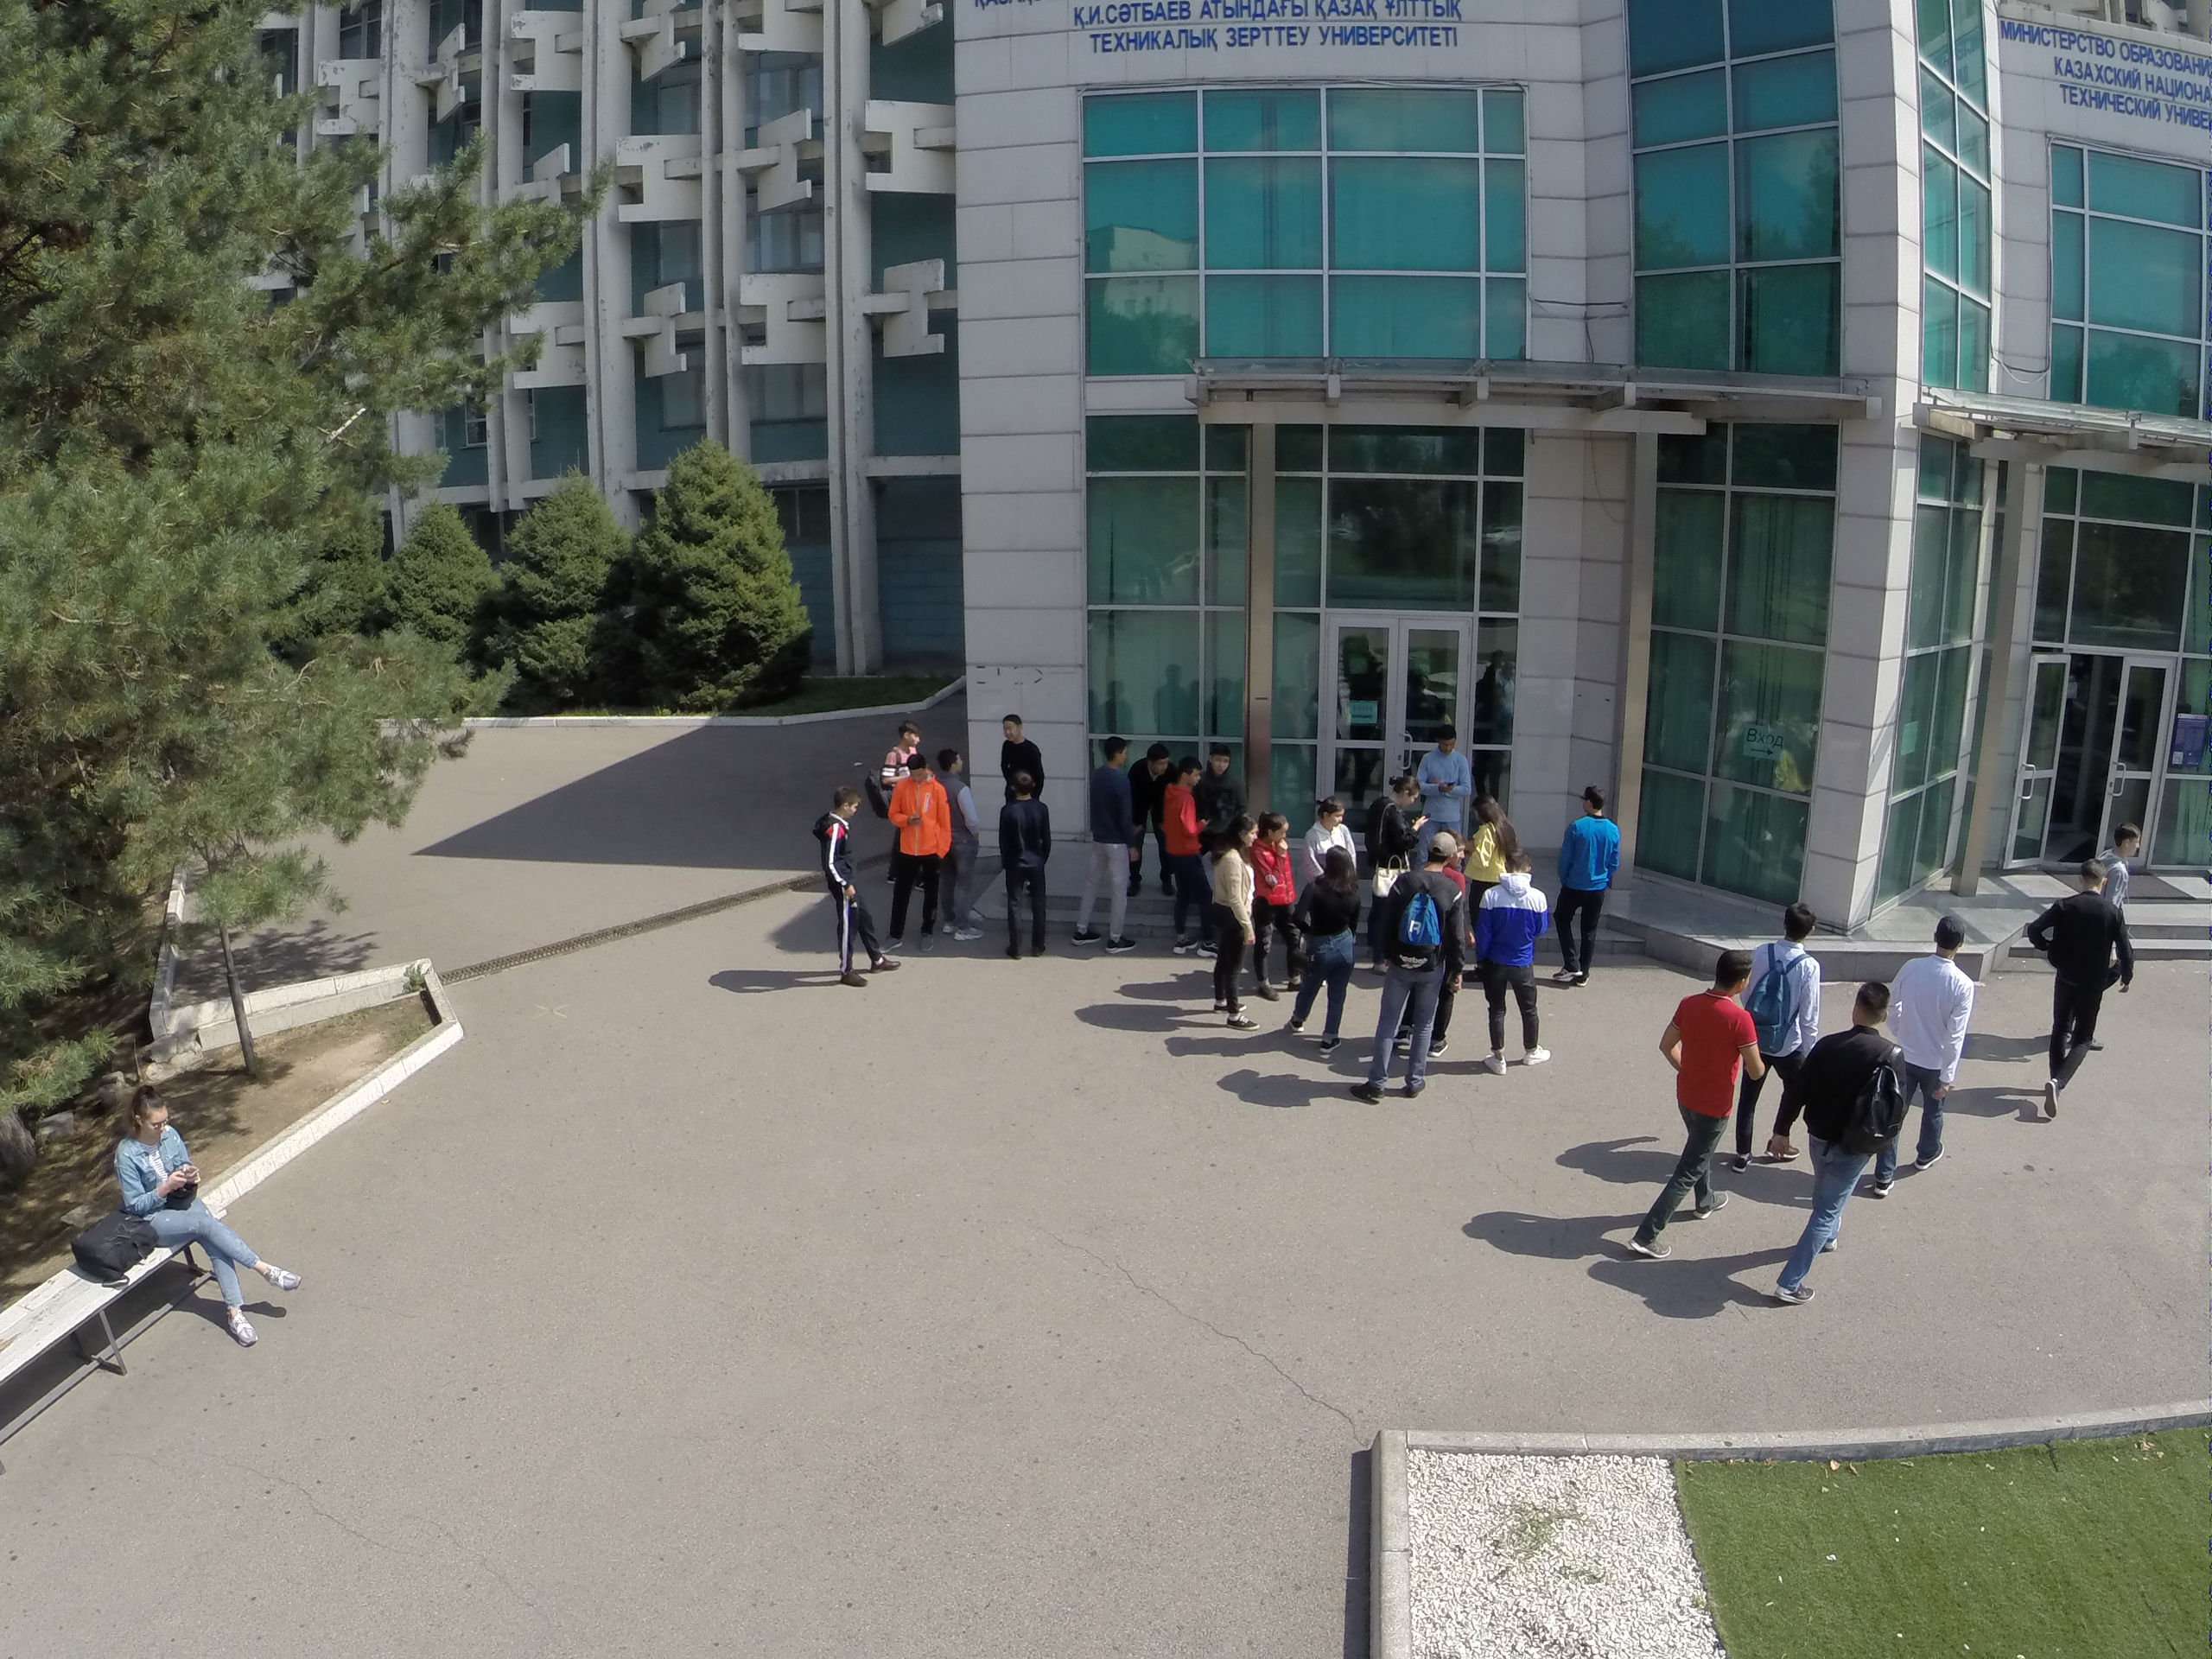person: (118, 1074, 304, 1353), (1612, 945, 1769, 1263), (1764, 998, 1905, 1315), (1875, 916, 1985, 1221), (1354, 831, 1471, 1105), (2017, 854, 2121, 1135), (1736, 912, 1832, 1171), (1281, 847, 1354, 1058), (1473, 855, 1543, 1060), (1205, 815, 1264, 1039), (825, 782, 887, 990), (1082, 739, 1138, 944), (1257, 806, 1304, 993), (895, 765, 943, 947), (948, 747, 988, 942), (1011, 772, 1052, 957), (1130, 748, 1180, 896), (1573, 788, 1611, 982), (1173, 762, 1210, 957), (1373, 775, 1433, 855), (1466, 796, 1515, 880), (1196, 746, 1241, 820), (1431, 728, 1464, 829), (998, 709, 1039, 765), (1313, 800, 1358, 849), (893, 724, 919, 770)
